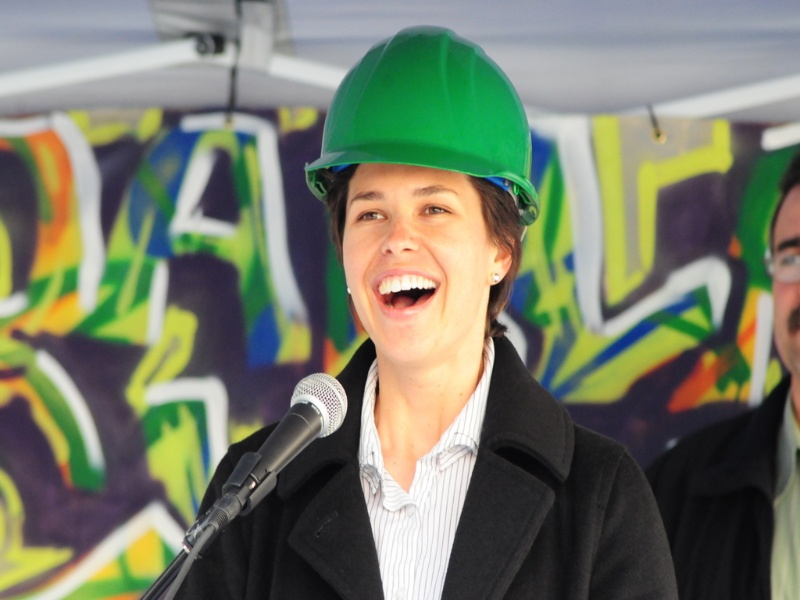Baret: (305, 24, 540, 219)
